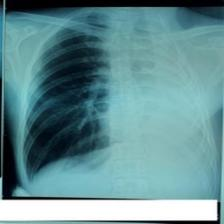tuberculosis: (17, 8, 224, 198)
